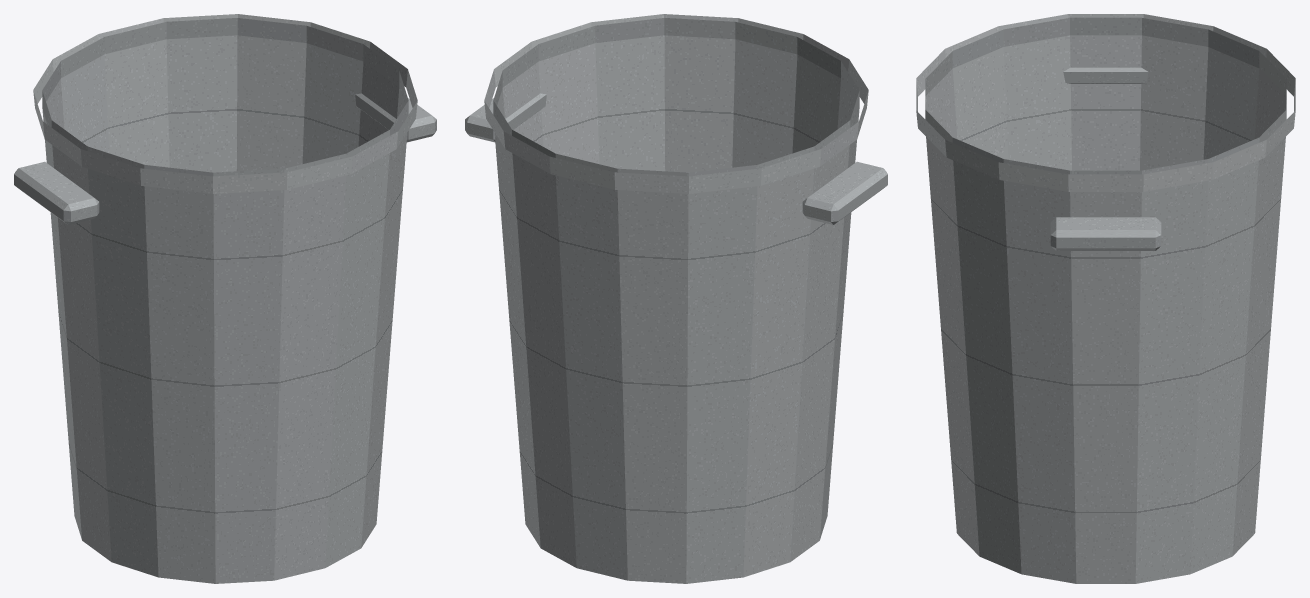
Rendered from trashcan.glb.
3 renders of one model, left to right at view 1: azimuth 30°, elevation 25°; view 2: azimuth 150°, elevation 25°; view 3: azimuth 270°, elevation 25°, orthographic.
Parts seen in each view (by area): view 1: block_wall, block_rim, block_lip, block_grip-1, block_grip1; view 2: block_wall, block_rim, block_lip, block_grip-1, block_grip1; view 3: block_wall, block_rim, block_lip, block_grip1, block_grip-1.
Boxes of the visible parts, box(x1,y1,x2,y2) form: block_wall: box(42, 35, 407, 583); block_rim: box(33, 14, 417, 193); block_lip: box(42, 18, 408, 176); block_grip-1: box(14, 161, 99, 224); block_grip1: box(355, 93, 436, 142); block_wall: box(494, 35, 859, 583); block_rim: box(484, 14, 868, 193); block_lip: box(493, 18, 859, 176); block_grip-1: box(802, 161, 887, 224); block_grip1: box(465, 93, 546, 142); block_wall: box(925, 35, 1286, 583); block_rim: box(916, 14, 1295, 191); block_lip: box(925, 17, 1286, 174); block_grip1: box(1050, 217, 1161, 250); block_grip-1: box(1063, 67, 1148, 83).
Size of the model in its own units: 0.47 by 0.511 by 0.4119.
Materials: 2 (2 with a texture image).
